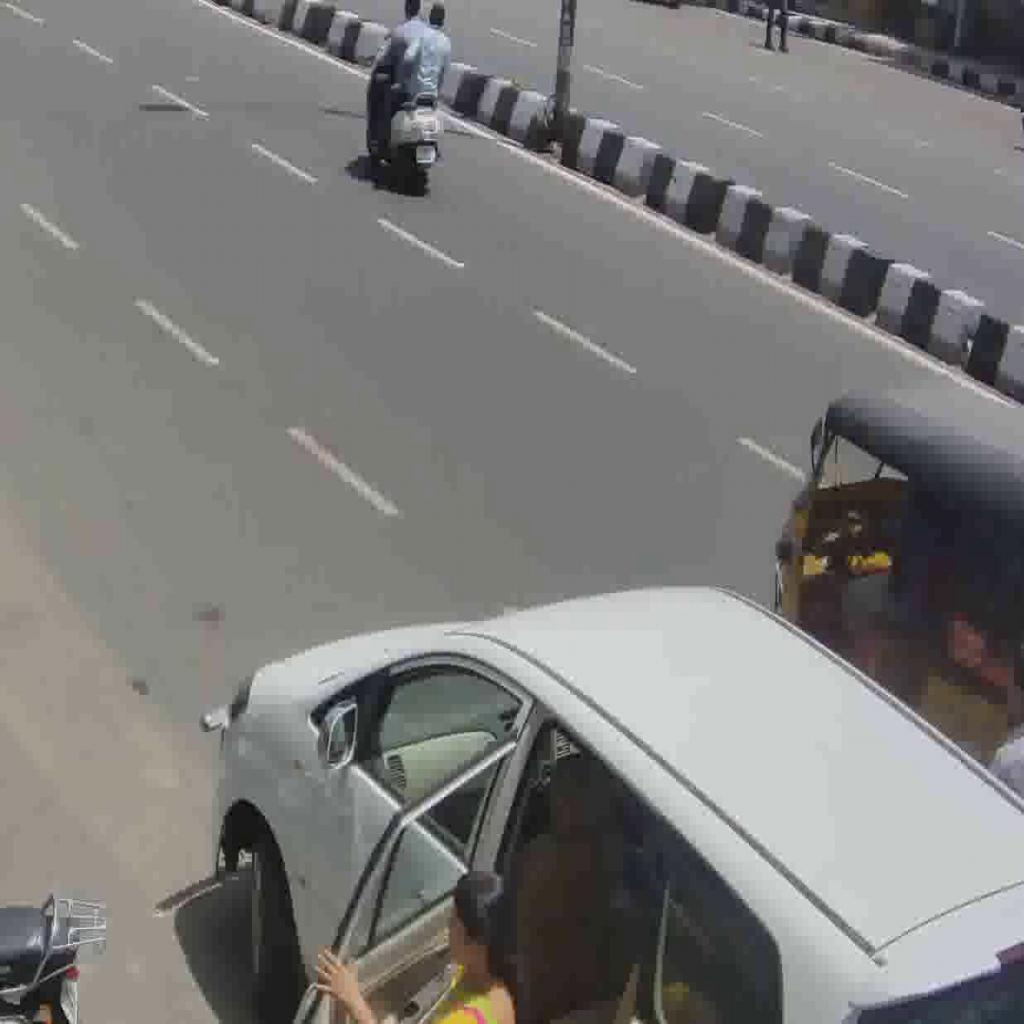helmet: (365, 33, 443, 194)
